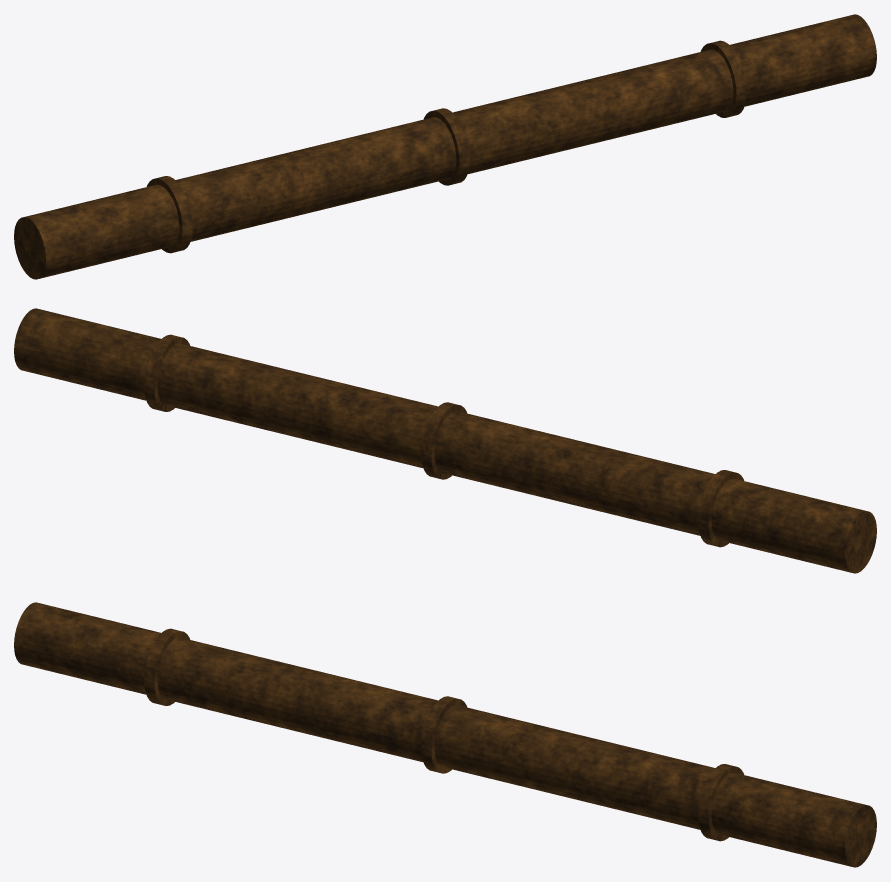
Rendered from pipe.fbx.
The picture shows the model from 3 angles, top to bottom: view 1: azimuth 30°, elevation 25°; view 2: azimuth 150°, elevation 25°; view 3: azimuth 330°, elevation 25°; orthographic projection.
Parts seen in each view (by area): view 1: Cylinder; view 2: Cylinder; view 3: Cylinder.
Part boxes in pixels (x1=…): Cylinder: x1=14, y1=14, x2=876, y2=279; Cylinder: x1=14, y1=308, x2=876, y2=573; Cylinder: x1=14, y1=602, x2=876, y2=867.
Size of the model in its own units: 300 by 24 by 24.
1 material, 1 textured.
